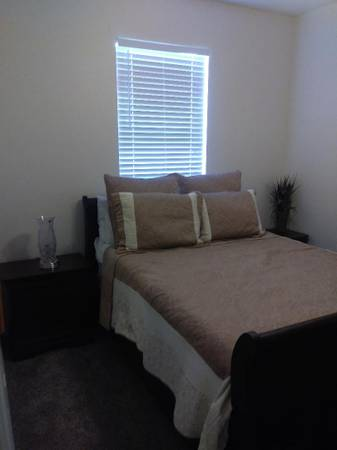bed: (83, 177, 337, 450)
night stand: (1, 251, 98, 362)
